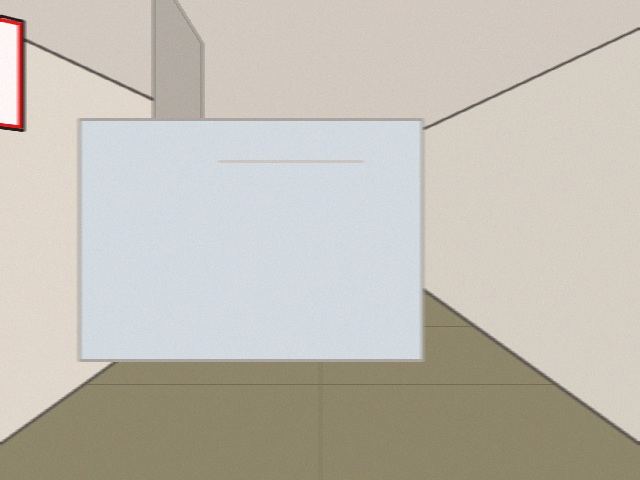directional_sign: (0, 0, 23, 130)
hospital_bed: (79, 119, 422, 360)
